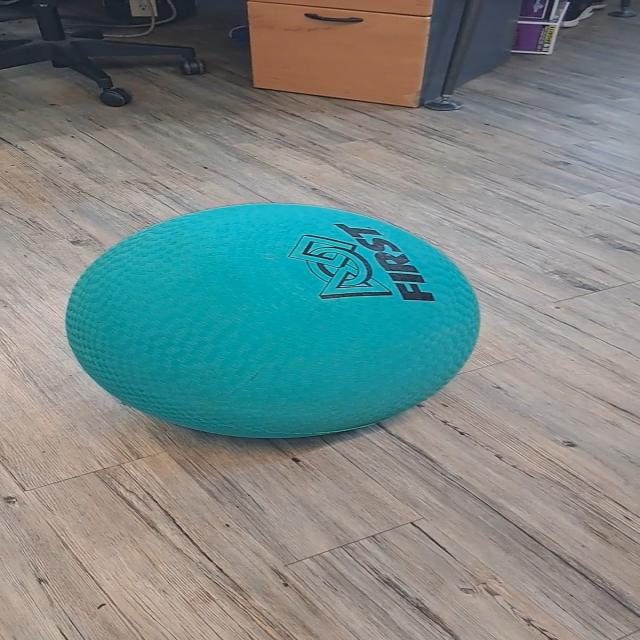ALGAE: (62, 202, 483, 439)
